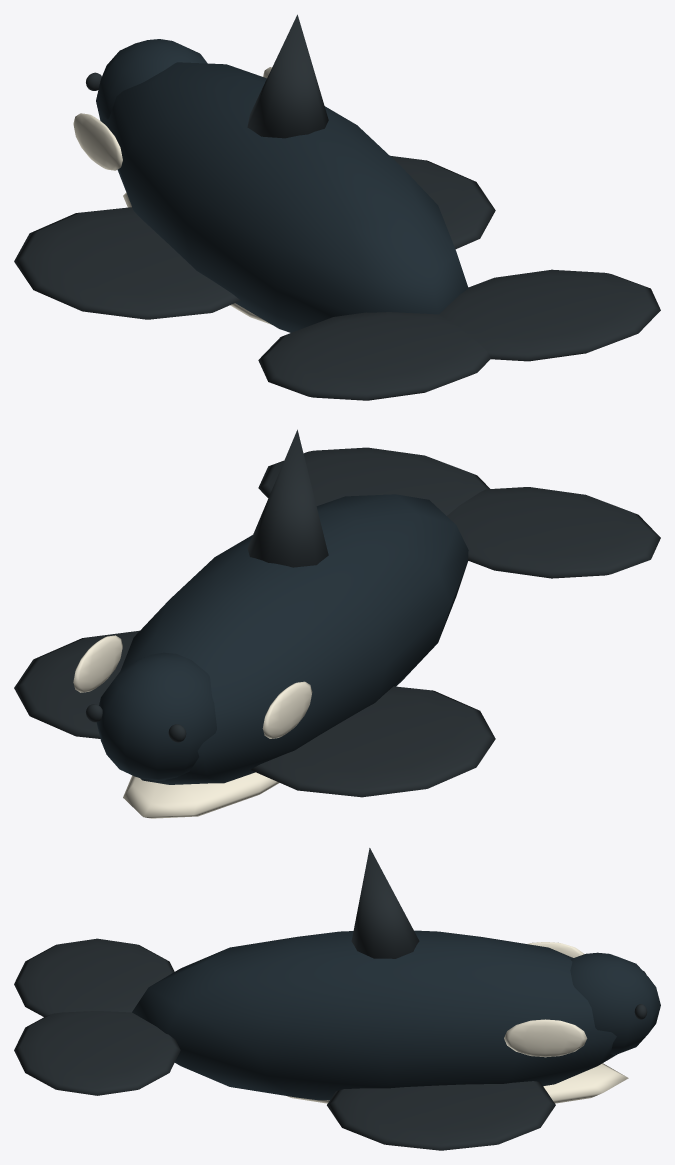
File: animal_orca.glb
3 views of the same model, one above another, from view 1: azimuth 30°, elevation 25°; view 2: azimuth 150°, elevation 25°; view 3: azimuth 270°, elevation 25° (orthographic). The views are drawn at different scales.
Parts seen in each view (by area): view 1: Body; view 2: Body; view 3: Body.
Boxes of the visible parts, x1,y1,x2,y2 form: Body: [14, 14, 660, 400]; Body: [14, 429, 660, 818]; Body: [14, 848, 660, 1150].
Bounding box in the file's own units: 3.3 × 2.1 × 4.97.
